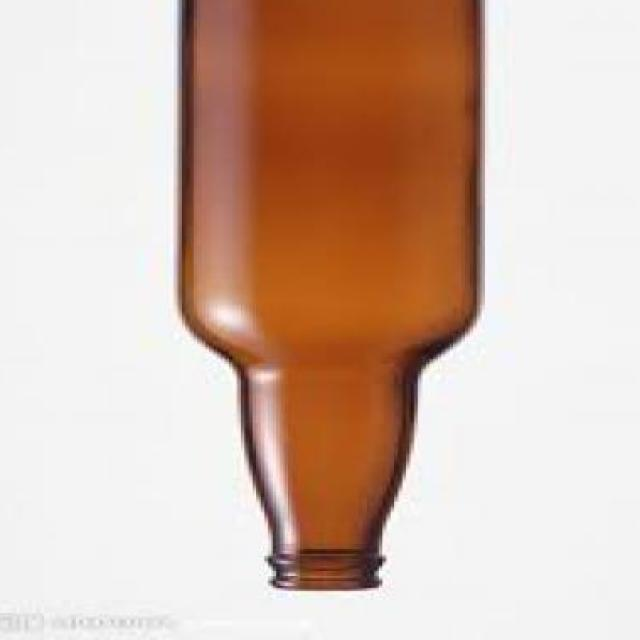kaca: (174, 0, 482, 593)
